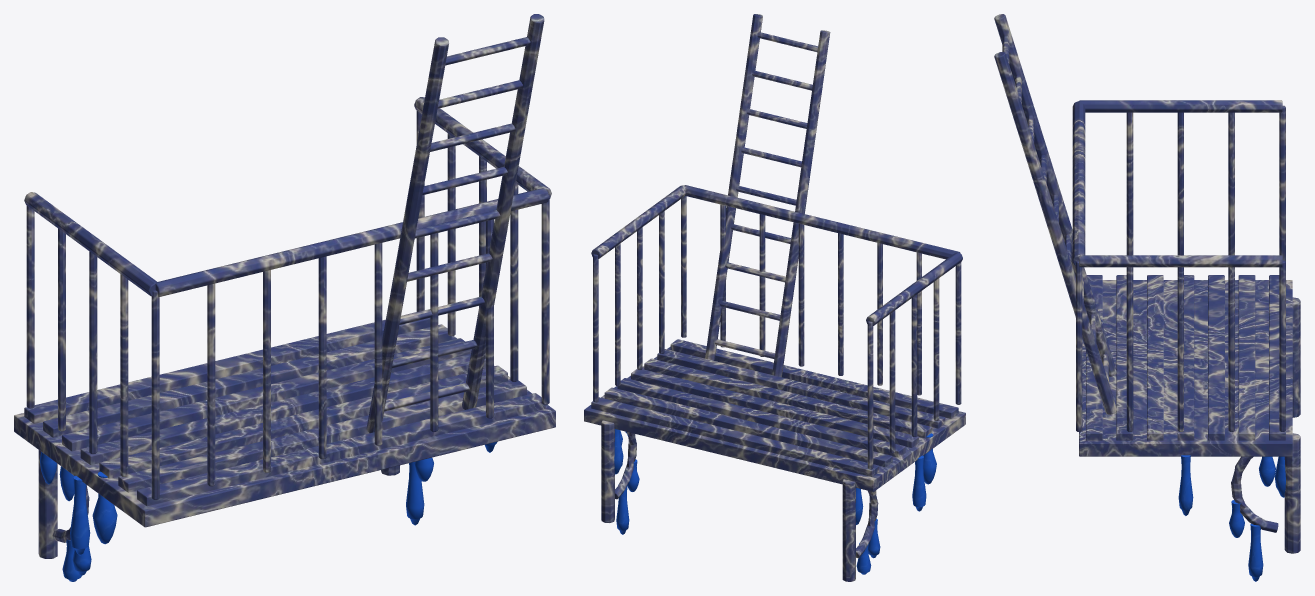
Rendered from fire_escape.glb.
3 views of the same model, side by side, from view 1: azimuth 30°, elevation 25°; view 2: azimuth 150°, elevation 25°; view 3: azimuth 270°, elevation 25° (orthographic). The views are drawn at different scales.
Visible parts, largest first — view 1: fire_escape; view 2: fire_escape; view 3: fire_escape.
Boxes of the visible parts, box(x1,y1,x2,y2) form: fire_escape: box(14, 14, 555, 581); fire_escape: box(584, 14, 965, 581); fire_escape: box(994, 14, 1300, 581).
Bounding box in the file's own units: 2.11 × 3 × 1.62.
1 material, 1 textured.
